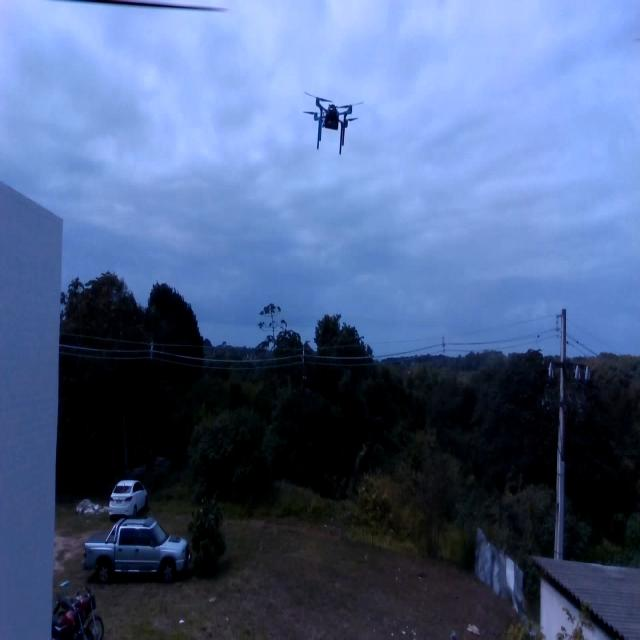-uav-: (297, 80, 371, 166)
